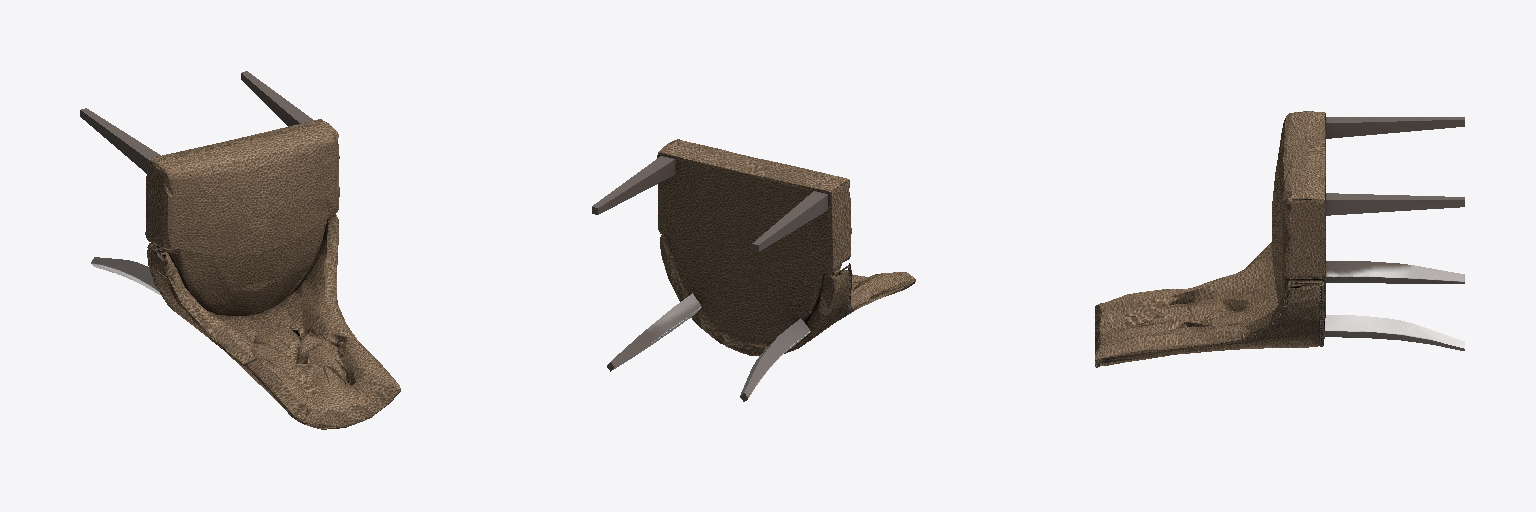
3 views of the same model, side by side, from view 1: azimuth 30°, elevation 25°; view 2: azimuth 150°, elevation 25°; view 3: azimuth 270°, elevation 25° (orthographic).
Bounding box in the file's own units: 0.4671 × 0.5289 × 0.852.
1 materials, 1 textured.